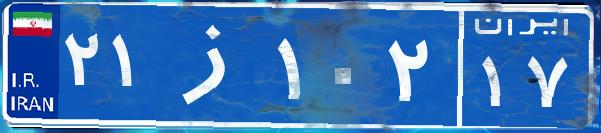0: (330, 28, 385, 110)
1: (273, 28, 330, 110), (475, 38, 525, 113), (110, 28, 158, 105)
2: (385, 28, 445, 110), (57, 26, 110, 107)
7: (525, 38, 570, 115)
ز: (158, 15, 273, 115)
